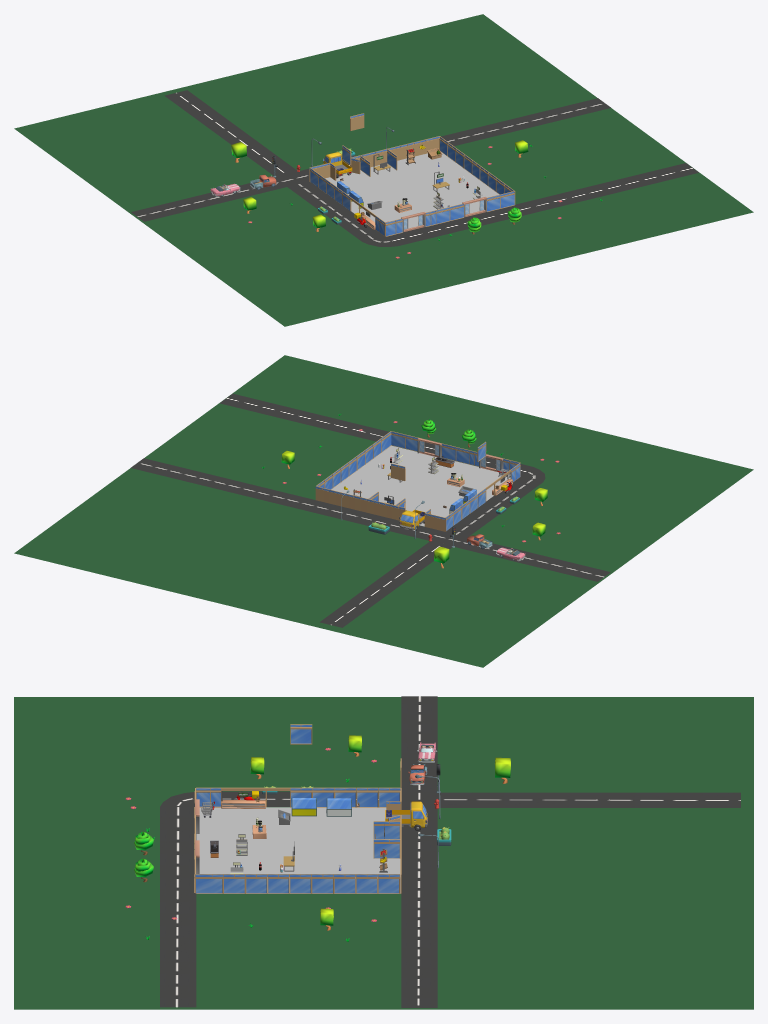
File: SM_Pick_And_Go_All_Models.fbx
3 renders of one model, top to bottom at view 1: azimuth 30°, elevation 25°; view 2: azimuth 150°, elevation 25°; view 3: azimuth 270°, elevation 25°, orthographic. The views are drawn at different scales.
Parts seen in each view (by area): view 1: SM_Ground, SM_Roads, SM_Walls, SM_Environment_Decor; view 2: SM_Ground, SM_Roads, SM_Walls, SM_Environment_Decor; view 3: SM_Ground, SM_Roads, SM_Walls, SM_Environment_Decor, SM_Truck.
Boxes of the visible parts, x1,y1,x2,y2 form: SM_Ground: [14, 14, 753, 326]; SM_Roads: [131, 90, 698, 246]; SM_Walls: [309, 136, 515, 236]; SM_Environment_Decor: [210, 127, 602, 258]; SM_Ground: [14, 355, 753, 667]; SM_Roads: [131, 393, 610, 627]; SM_Walls: [315, 431, 520, 531]; SM_Environment_Decor: [262, 413, 560, 568]; SM_Ground: [14, 697, 753, 1009]; SM_Roads: [160, 696, 740, 1007]; SM_Walls: [194, 787, 401, 893]; SM_Environment_Decor: [125, 735, 510, 941]; SM_Truck: [385, 801, 427, 830].
Bounding box in the file's own units: 14471 × 1831 × 14471.
